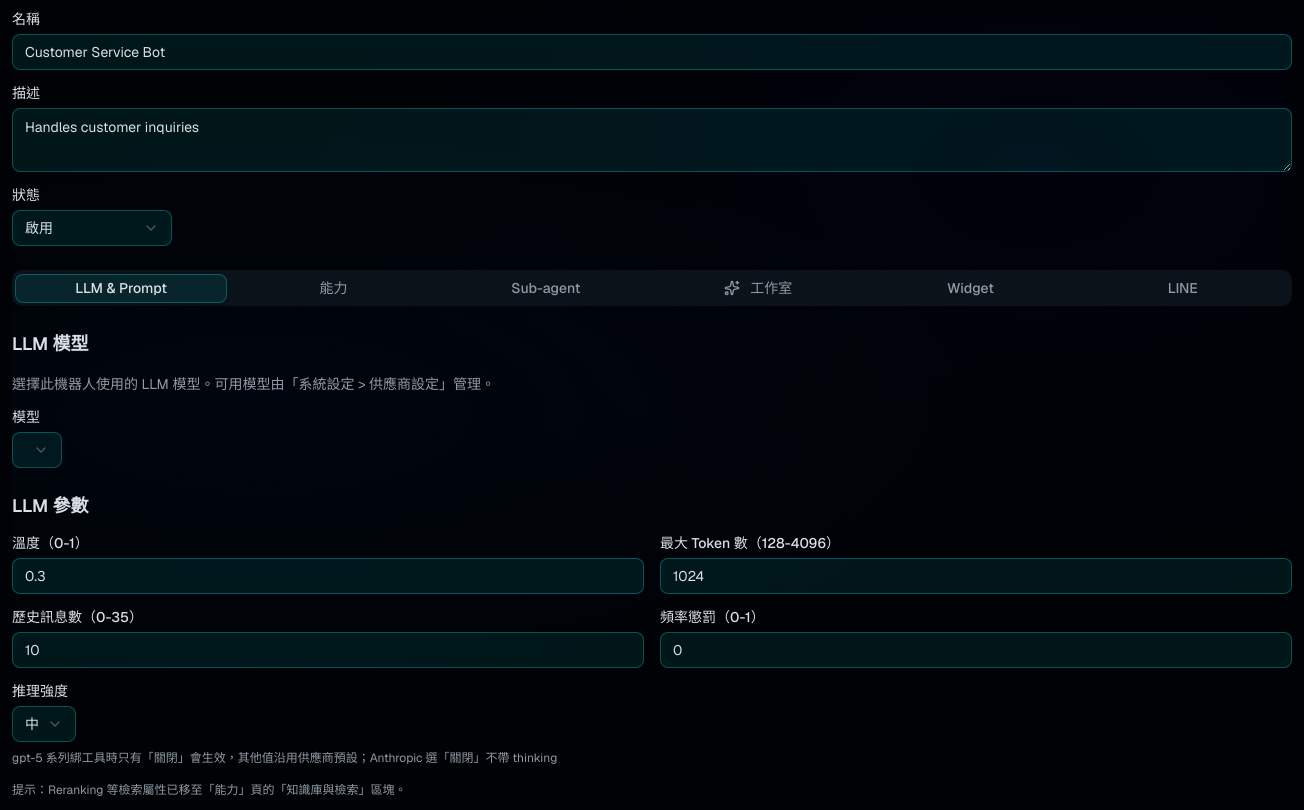
BotDetailForm › should show placeholder when no icon uploaded
The width and height of the screenshot is (1304, 810).
Click the tab "Widget". click: (970, 288)
box: [864,274,1077,302]
(page scrolled)
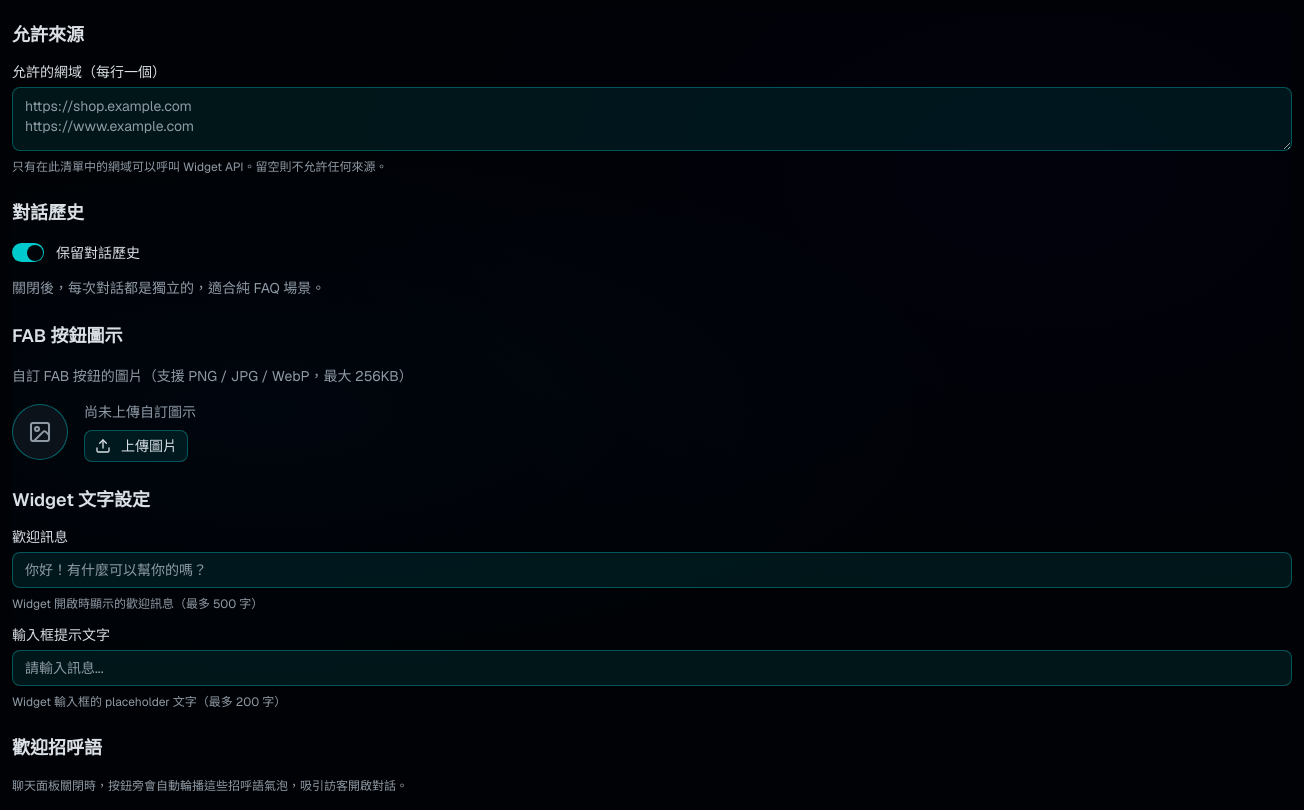
Check: the text "尚未上傳自訂圖示" is shown, box [84,402,196,422]
